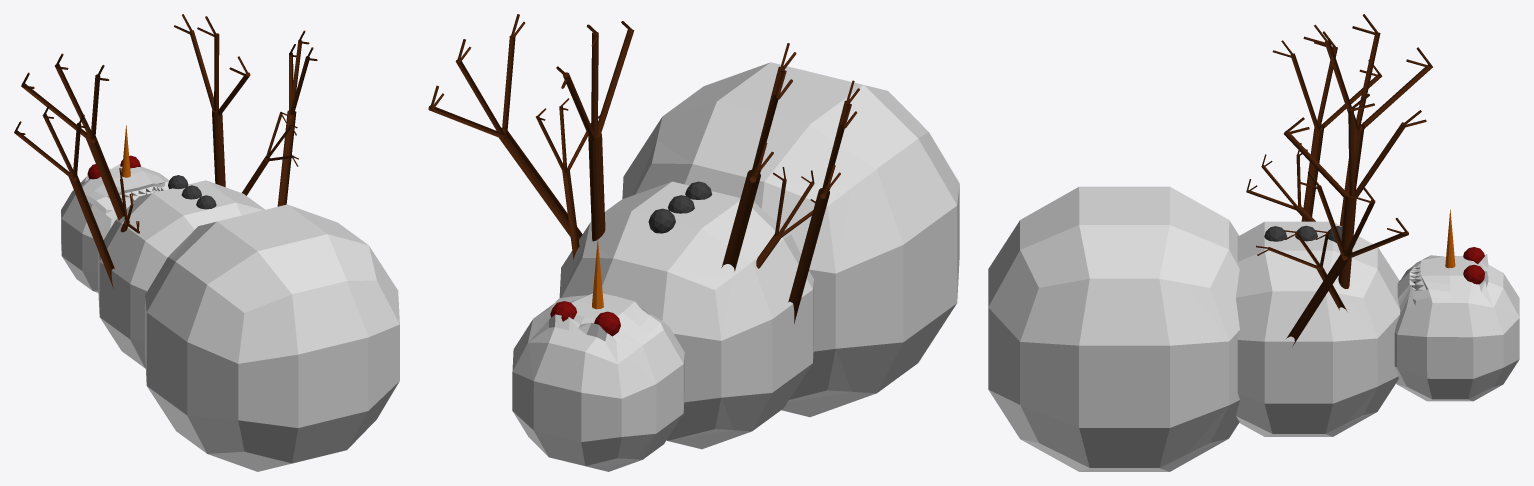
File: Enemy Three Final.fbx
3 renders of one model, left to right at view 1: azimuth 30°, elevation 25°; view 2: azimuth 150°, elevation 25°; view 3: azimuth 270°, elevation 25°, orthographic. The views are drawn at different scales.
Visible parts, largest first — view 1: Icosphere.008; view 2: Icosphere.008; view 3: Icosphere.008.
Part boxes in pixels (x1,y1,x2,y2): Icosphere.008: (14,14,399,471); Icosphere.008: (428,14,959,471); Icosphere.008: (988,14,1519,471).
Size of the model in its own units: 284 by 319 by 402.
